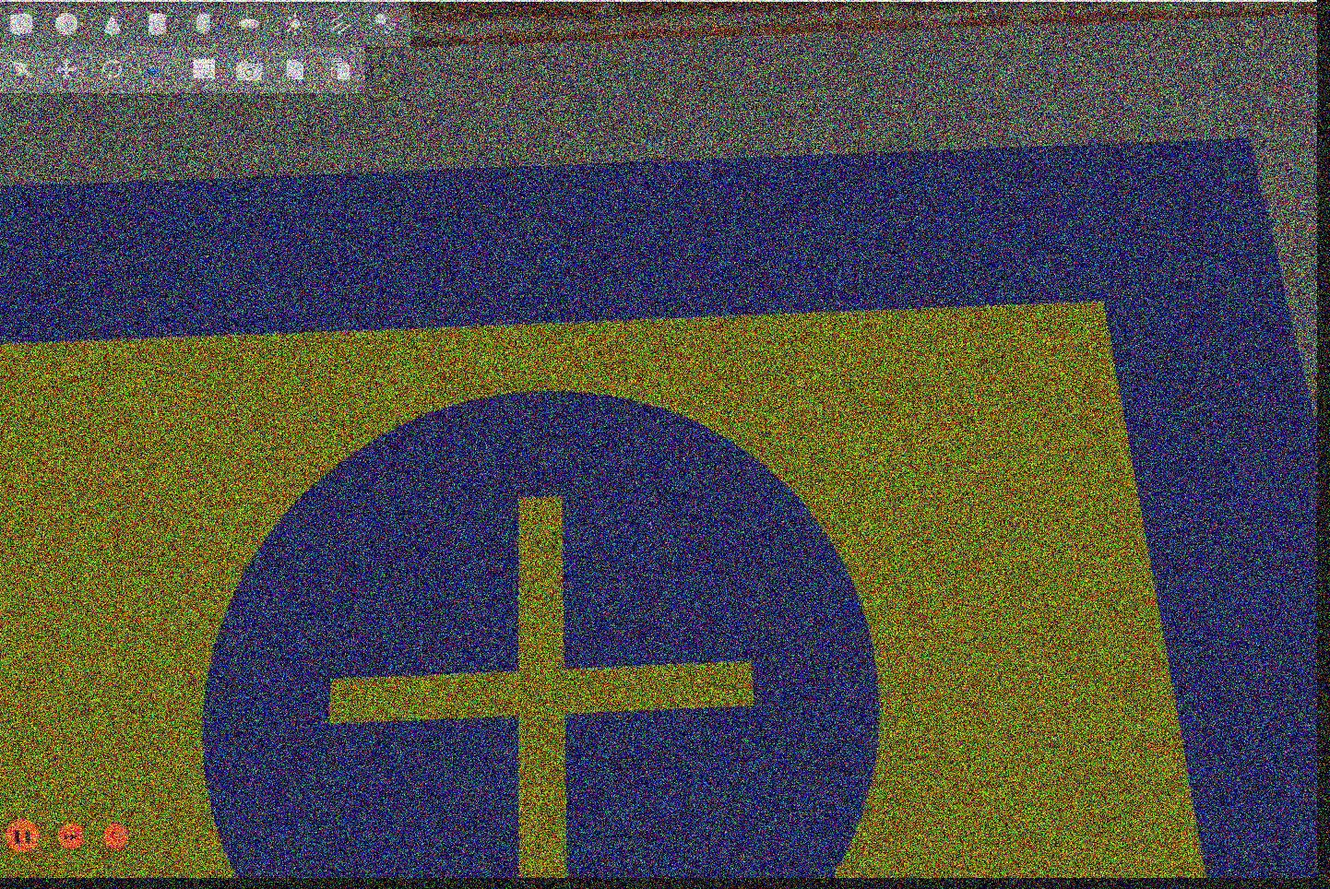large_base: (1, 130, 1319, 882)
